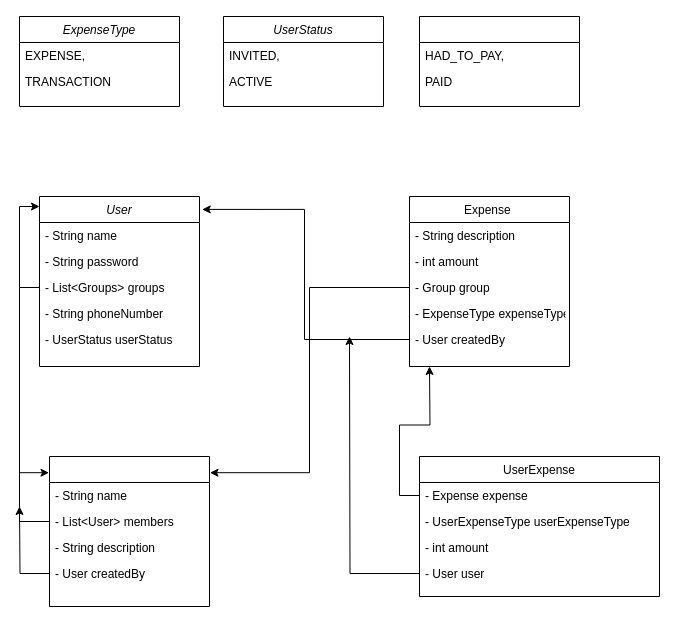
Image size: 676x623. Some labels were removed from this diagram. Here are the shapes that lost their labels. From the top down, the box of each, then its label:
(418, 16, 580, 106): UserExpenseType
(48, 456, 210, 606): Group
